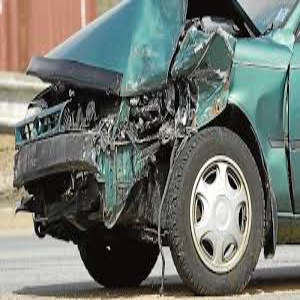bumper: (35, 136, 163, 229)
